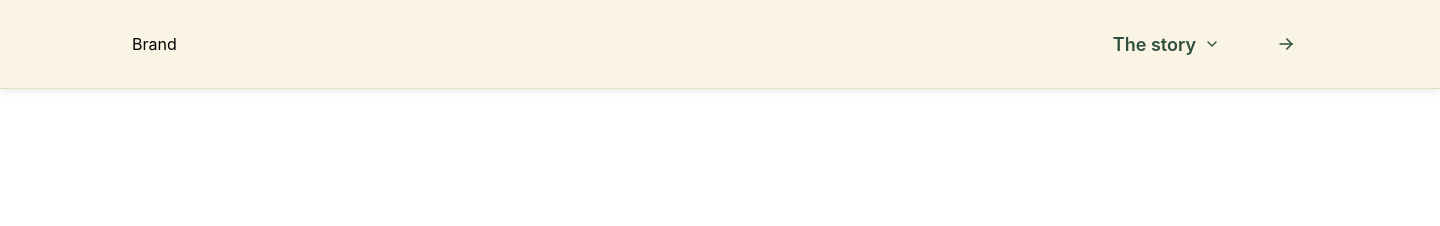
Test: closing the section picker restores focus without scrolling the sticky header into view
Later steps or results of the test are not shown.
Press the mouse on the button "The story" at (1166, 44), box [1113,22,1220,66]
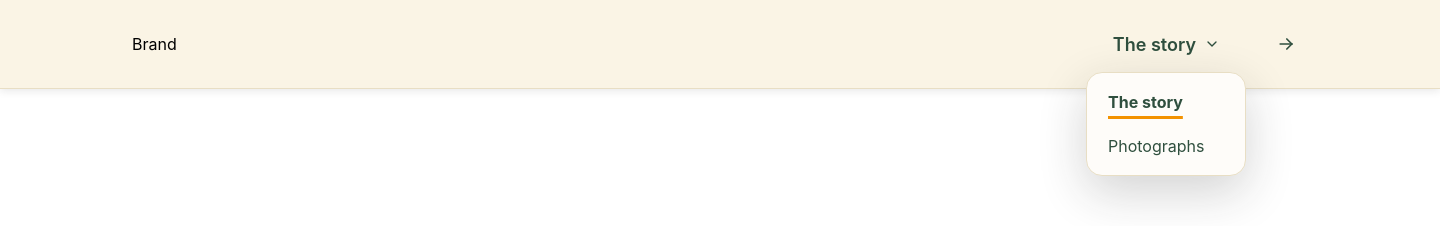
Press the mouse on the button "The story" at (1166, 44), box [1113,22,1220,66]
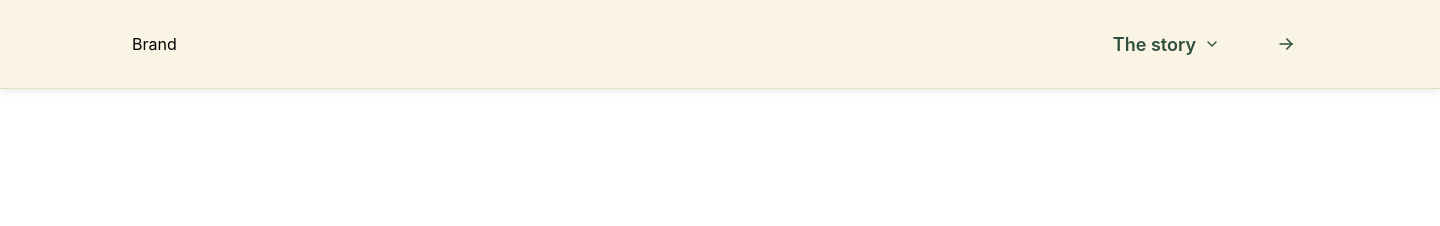
Check: the menu is gone
